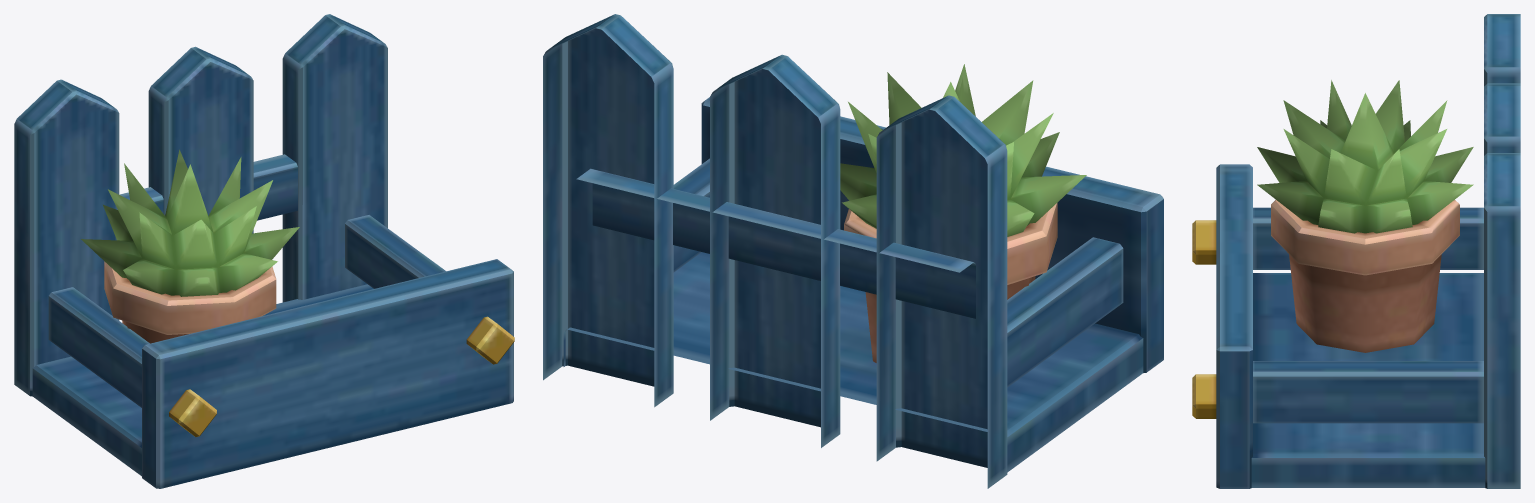
The model's file is rmk_blu_shelf_wall.dae.
3 views of the same model, side by side, from view 1: azimuth 30°, elevation 25°; view 2: azimuth 150°, elevation 25°; view 3: azimuth 270°, elevation 25° (orthographic). The views are drawn at different scales.
Parts seen in each view (by area): view 1: bs_J_0_0; view 2: bs_J_0_0; view 3: bs_J_0_0.
Part boxes in pixels (x1=…): bs_J_0_0: x1=14, y1=14, x2=514, y2=488; bs_J_0_0: x1=543, y1=14, x2=1163, y2=488; bs_J_0_0: x1=1192, y1=14, x2=1520, y2=488.
Size of the model in its own units: 24 by 18.83 by 17.96.
1 material, 1 textured.
